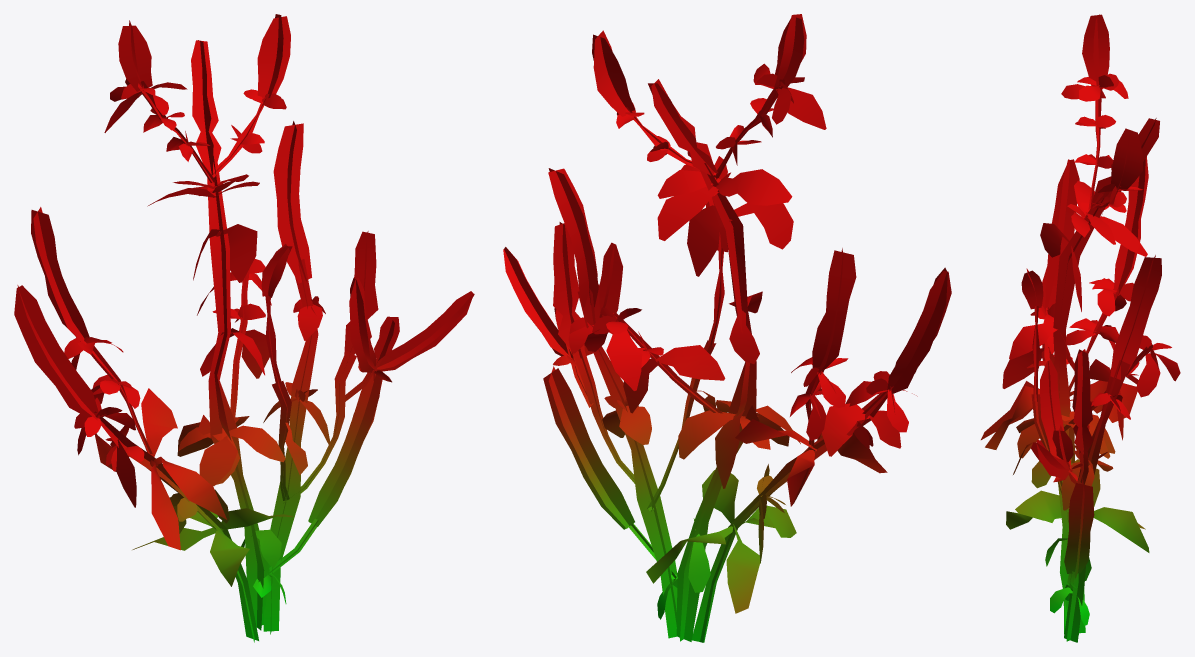
The model's file is Var1_LOD1.fbx.
3 views of the same model, side by side, from view 1: azimuth 30°, elevation 25°; view 2: azimuth 150°, elevation 25°; view 3: azimuth 270°, elevation 25° (orthographic). The views are drawn at different scales.
Parts seen in each view (by area): view 1: _8a80_Var1_LOD1; view 2: _8a80_Var1_LOD1; view 3: _8a80_Var1_LOD1.
Boxes of the visible parts, left/top/right/bottom form: _8a80_Var1_LOD1: left=14, top=14, right=474, bottom=642; _8a80_Var1_LOD1: left=503, top=14, right=951, bottom=642; _8a80_Var1_LOD1: left=981, top=14, right=1180, bottom=642.
Bounding box in the file's own units: 64.86 × 89.42 × 28.27.
